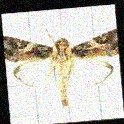Spodoptera litura: (6, 14, 119, 108)
